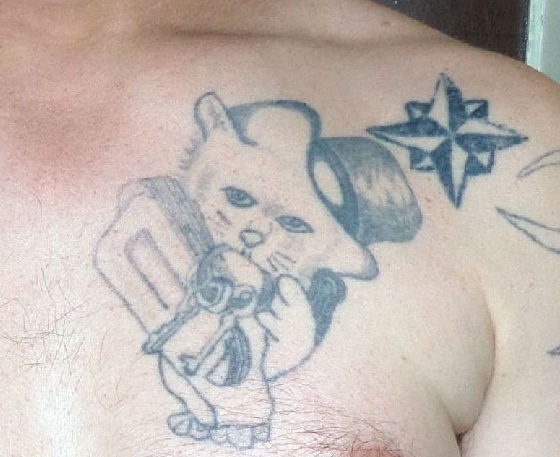tatu8_kot: (162, 54, 420, 457)
tatu9_krest: (359, 62, 532, 218)
